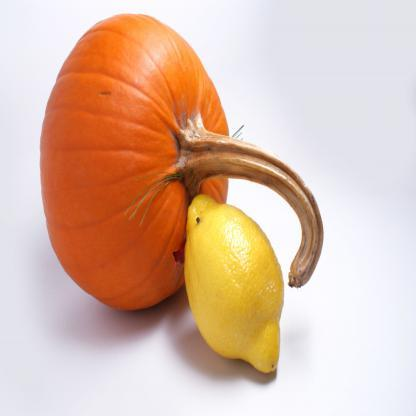lemon: (184, 192, 285, 374)
